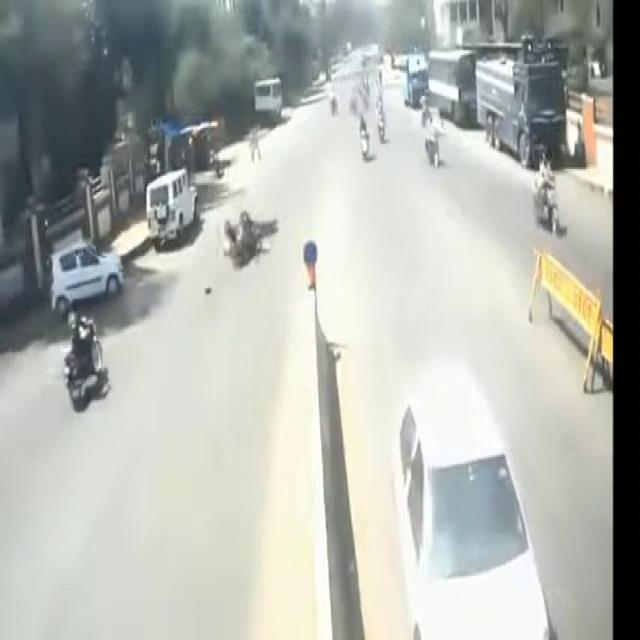accident: (207, 186, 292, 284)
